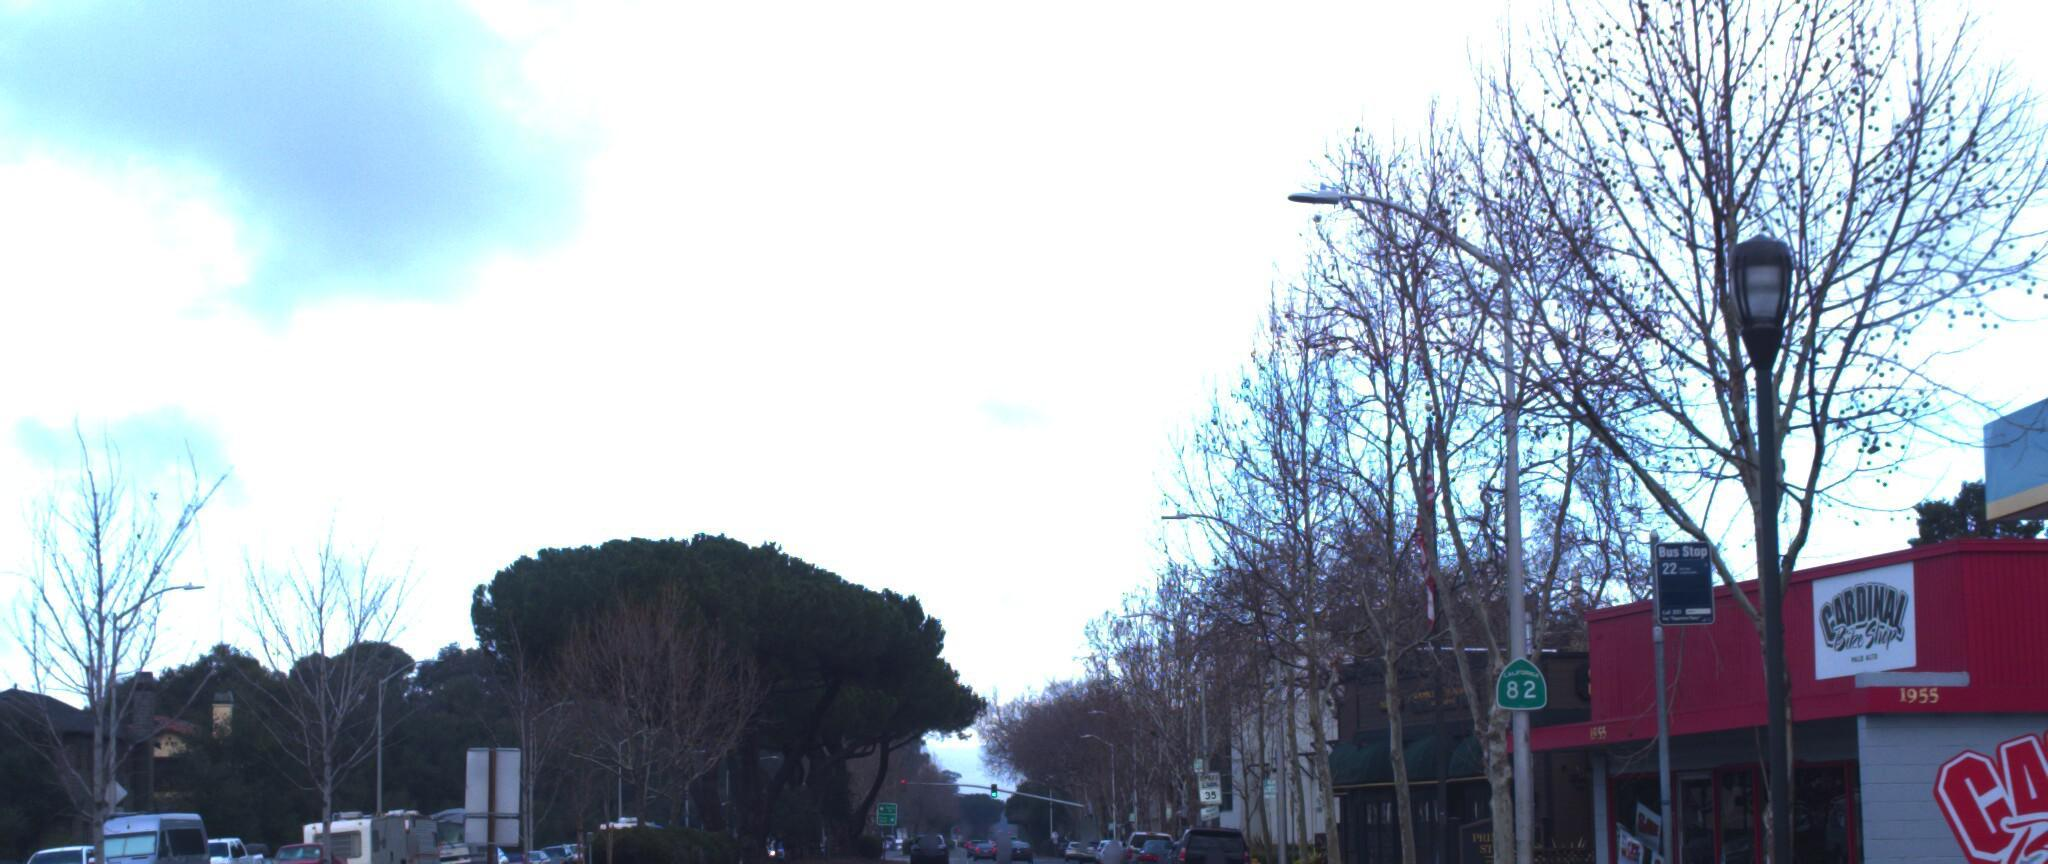car: (1157, 818, 1249, 864), (0, 835, 138, 864), (0, 854, 52, 864)
